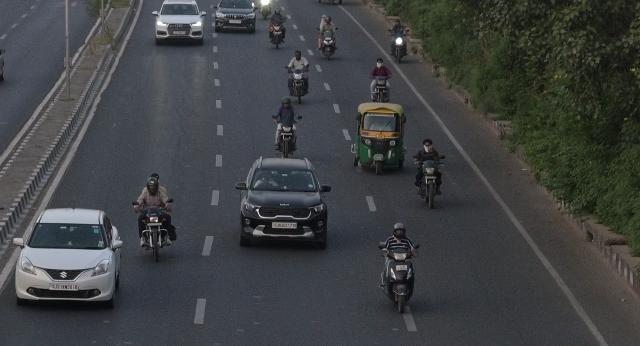With Helmet: (146, 176, 160, 194), (392, 222, 406, 239), (280, 97, 294, 109), (325, 16, 331, 24)
Without Helmet: (422, 138, 434, 150), (294, 50, 302, 62), (375, 58, 383, 68), (395, 19, 401, 28), (322, 14, 326, 22)
